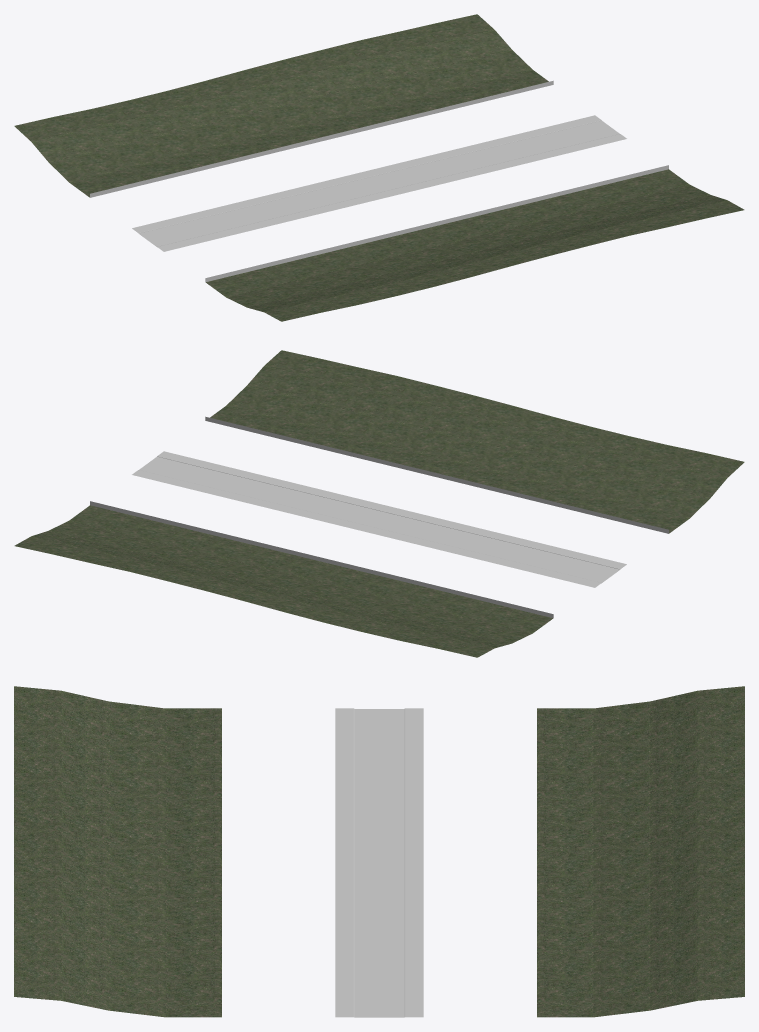
File: Street-Demo.fbx
3 views of the same model, one above another, from view 1: azimuth 30°, elevation 25°; view 2: azimuth 150°, elevation 25°; view 3: azimuth 270°, elevation 25° (orthographic). The views are drawn at different scales.
Visible parts, largest first — view 1: Street-Demo; view 2: Street-Demo; view 3: Street-Demo.
Boxes of the visible parts, <box> form: Street-Demo: <box>14,14,744,321</box>; Street-Demo: <box>14,350,744,657</box>; Street-Demo: <box>14,686,744,1017</box>.
Size of what is drawn, in the model's own units: 23200 by 848 by 23200.
